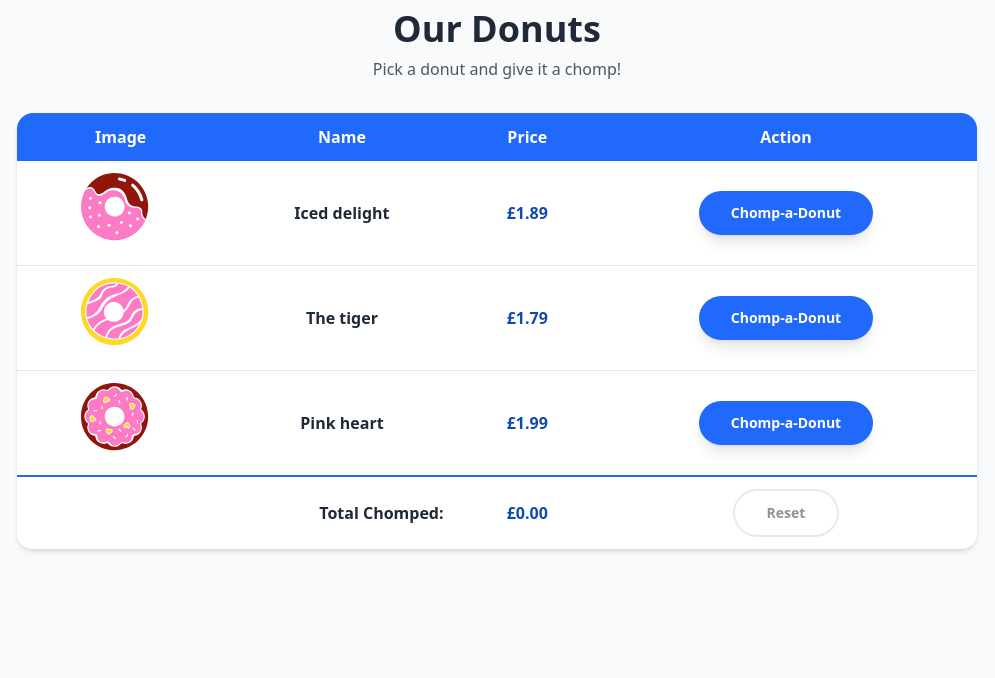
MenuPage › shows fun message when all donuts are chomped
expect the text "Pink heart" is shown: met, box [224,370,460,476]
Click the button "Chomp-a-Donut" in the row of "Iced delight".
click(786, 213)  # box [699,191,873,235]
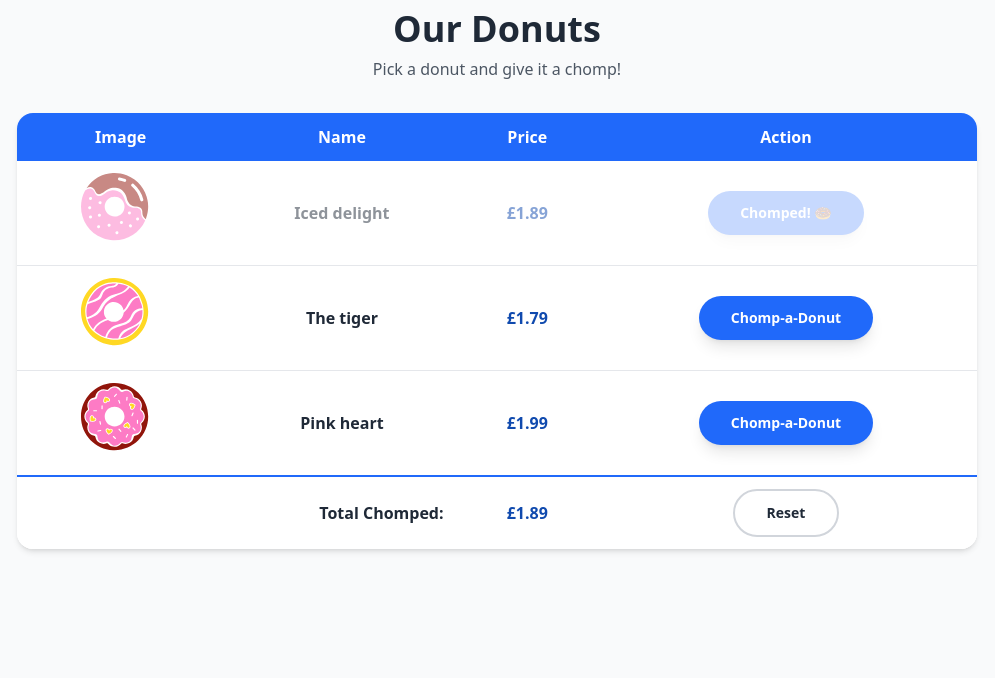
Click the button "Chomp-a-Donut" in the row of "The tiger".
click(786, 318)  # box [699,296,873,340]
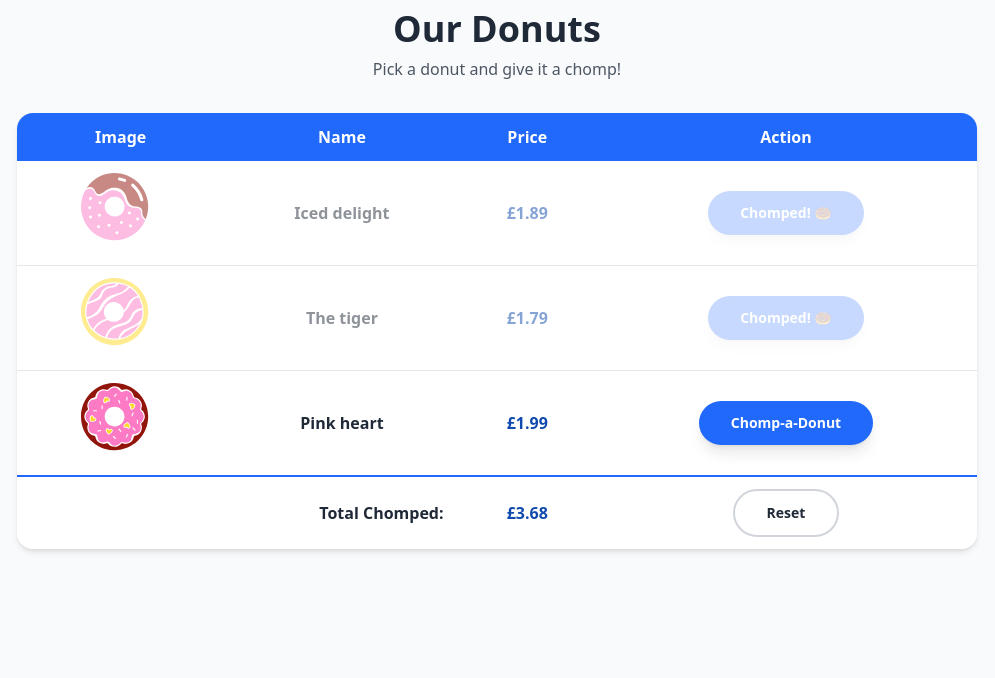
Click the button "Chomp-a-Donut".
click(786, 423)  # box [699,401,873,445]
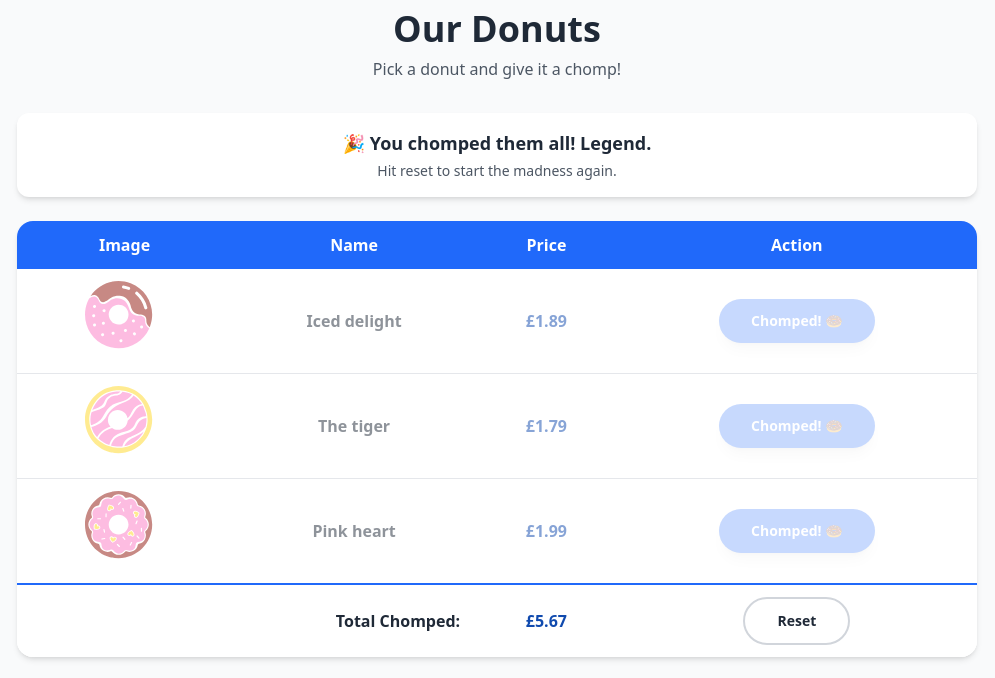
expect the text "🎉 You chomped them all! Legend." is shown: met, box [343,131,651,155]
